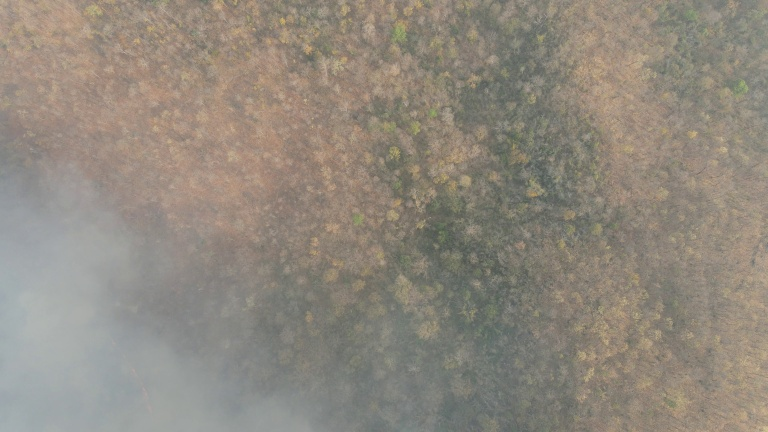fire: (128, 364, 163, 432)
smoke: (3, 167, 292, 432)
